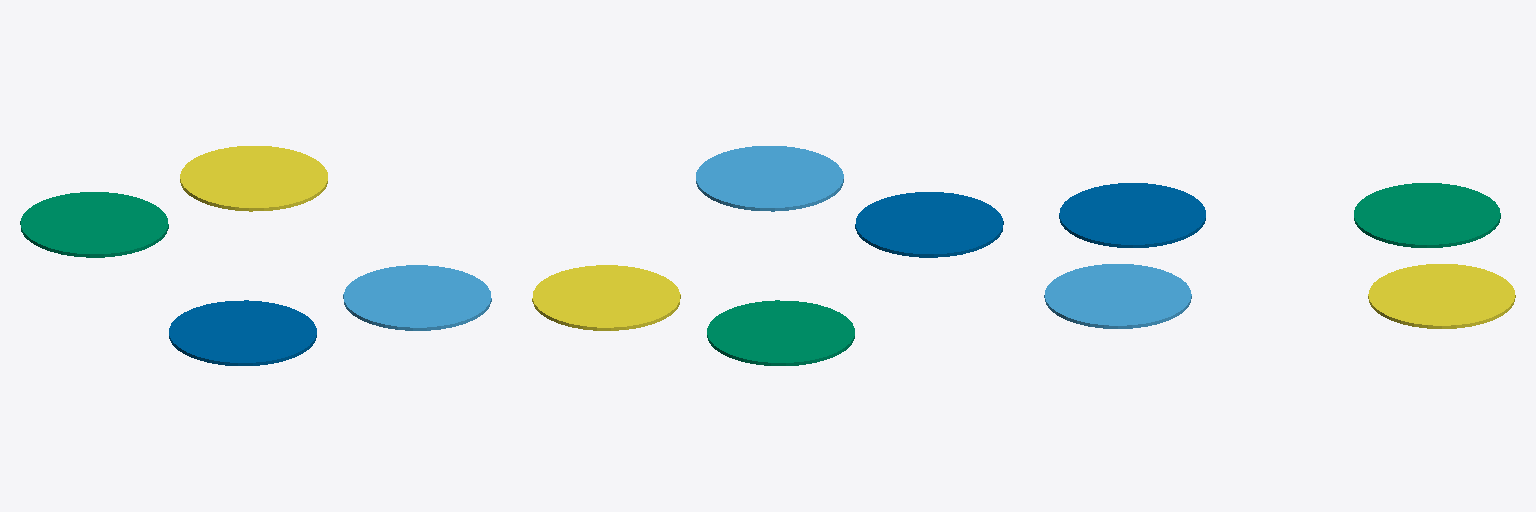
The robot description file, URDF, robot "quadrotor":
<?xml version="1.0"?>
<robot name="quadrotor">
  <link name="base_link">
    <inertial>
      <origin xyz="0 0 0" rpy="0 0 0"/>
      <mass value="1.5"/>
      <inertia ixx="0.029125" ixy="0" ixz="0" iyy="0.029125" iyz="0" izz="0.055225"/>
    </inertial>
    <visual>
      <geometry>
        <mesh filename="package://quadrotor_description/meshes/iris.stl"/>
      </geometry>
    </visual>
    <collision>
      <geometry>
        <box size="0.47 0.47 0.11"/>
      </geometry>
    </collision>
  </link>
  <link name="rotor_0">
    <inertial>
      <origin xyz="0 0 0" rpy="0 0 0"/>
      <mass value="0.005"/>
      <inertia ixx="9.75e-07" ixy="0" ixz="0" iyy="4.17041e-05" iyz="0" izz="4.26041e-05"/>
    </inertial>
    <visual>
      <geometry>
        <cylinder radius="0.1" length="0.005"/>
      </geometry>
    </visual>
  </link>
  <joint name="rotor_0_joint" type="continuous">
    <parent link="base_link"/>
    <child link="rotor_0"/>
    <origin xyz="0.13 -0.22 0.023" rpy="0 0 0"/>
    <axis xyz="0 0 1"/>
  </joint>
  <link name="rotor_1">
    <inertial>
      <origin xyz="0 0 0" rpy="0 0 0"/>
      <mass value="0.005"/>
      <inertia ixx="9.75e-07" ixy="0" ixz="0" iyy="4.17041e-05" iyz="0" izz="4.26041e-05"/>
    </inertial>
    <visual>
      <geometry>
        <cylinder radius="0.1" length="0.005"/>
      </geometry>
    </visual>
  </link>
  <joint name="rotor_1_joint" type="continuous">
    <parent link="base_link"/>
    <child link="rotor_1"/>
    <origin xyz="-0.13 0.2 0.023" rpy="0 0 0"/>
    <axis xyz="0 0 1"/>
  </joint>
  <link name="rotor_2">
    <inertial>
      <origin xyz="0 0 0" rpy="0 0 0"/>
      <mass value="0.005"/>
      <inertia ixx="9.75e-07" ixy="0" ixz="0" iyy="4.17041e-05" iyz="0" izz="4.26041e-05"/>
    </inertial>
    <visual>
      <geometry>
        <cylinder radius="0.1" length="0.005"/>
      </geometry>
    </visual>
  </link>
  <joint name="rotor_2_joint" type="continuous">
    <parent link="base_link"/>
    <child link="rotor_2"/>
    <origin xyz="0.13 0.22 0.023" rpy="0 0 0"/>
    <axis xyz="0 0 1"/>
  </joint>
  <link name="rotor_3">
    <inertial>
      <origin xyz="0 0 0" rpy="0 0 0"/>
      <mass value="0.005"/>
      <inertia ixx="9.75e-07" ixy="0" ixz="0" iyy="4.17041e-05" iyz="0" izz="4.26041e-05"/>
    </inertial>
    <visual>
      <geometry>
        <cylinder radius="0.1" length="0.005"/>
      </geometry>
    </visual>
  </link>
  <joint name="rotor_3_joint" type="continuous">
    <parent link="base_link"/>
    <child link="rotor_3"/>
    <origin xyz="-0.13 -0.2 0.023" rpy="0 0 0"/>
    <axis xyz="0 0 1"/>
  </joint>
  <link name="imu_link"/>
  <joint name="imu_joint" type="fixed">
    <parent link="base_link"/>
    <child link="imu_link"/>
    <origin xyz="0 0 0" rpy="0 0 0"/>
  </joint>
  <sensor name="down_camera" type="camera" update_rate="20">
    <parent link="base_link"/>
    <origin xyz="0 0 -0.05" rpy="0 1.5708 0"/>
    <camera>
      <image width="640" height="480" format="RGB8" hfov="1.3962634" near="0.01" far="50.0"/>
    </camera>
  </sensor>
  <gazebo reference="imu_link">
    <sensor name="imu" type="imu">
      <always_on>true</always_on>
      <update_rate>250</update_rate>
      <pose>0 0 0 0 0 0</pose>
      <plugin name="imu_plugin" filename="libgazebo_imu_plugin.so"/>
    </sensor>
  </gazebo>
  <gazebo>
    <plugin name="rotor_0_model" filename="libgazebo_motor_model.so">
      <jointName>rotor_0_joint</jointName>
      <turningDirection>ccw</turningDirection>
      <maxRotVelocity>1100</maxRotVelocity>
    </plugin>
    <plugin name="rotor_1_model" filename="libgazebo_motor_model.so">
      <jointName>rotor_1_joint</jointName>
      <turningDirection>ccw</turningDirection>
      <maxRotVelocity>1100</maxRotVelocity>
    </plugin>
    <plugin name="rotor_2_model" filename="libgazebo_motor_model.so">
      <jointName>rotor_2_joint</jointName>
      <turningDirection>cw</turningDirection>
      <maxRotVelocity>1100</maxRotVelocity>
    </plugin>
    <plugin name="rotor_3_model" filename="libgazebo_motor_model.so">
      <jointName>rotor_3_joint</jointName>
      <turningDirection>cw</turningDirection>
      <maxRotVelocity>1100</maxRotVelocity>
    </plugin>
  </gazebo>
</robot>

--- Facts derived from the render (not from the file) ---
Views: 3 orthographic renders of the robot side by side, from view 1: azimuth 30°, elevation 25°; view 2: azimuth 150°, elevation 25°; view 3: azimuth 270°, elevation 25°.
Robot: quadrotor — 6 links, 5 joints (4 continuous, 1 fixed); root link base_link; default pose: every joint at zero.
Visible links, largest first — view 1: rotor_0, rotor_1, rotor_2, rotor_3; view 2: rotor_2, rotor_3, rotor_0, rotor_1; view 3: rotor_1, rotor_3, rotor_0, rotor_2.
Link boxes in pixels (x1=…): rotor_0: x1=343, y1=265, x2=491, y2=330; rotor_1: x1=20, y1=192, x2=168, y2=257; rotor_2: x1=180, y1=146, x2=327, y2=211; rotor_3: x1=169, y1=300, x2=316, y2=365; rotor_2: x1=532, y1=265, x2=680, y2=330; rotor_3: x1=855, y1=192, x2=1003, y2=257; rotor_0: x1=696, y1=146, x2=843, y2=211; rotor_1: x1=707, y1=300, x2=854, y2=365; rotor_1: x1=1354, y1=183, x2=1500, y2=247; rotor_3: x1=1059, y1=183, x2=1205, y2=247; rotor_0: x1=1044, y1=264, x2=1191, y2=328; rotor_2: x1=1368, y1=264, x2=1515, y2=328.
Size in the robot's own frame: 0.46 by 0.64 by 0.005 metres.
0 mesh visuals loaded from 1 distinct referenced files (none loaded); not drawn: 1 (reference not matched to a file when rendering).
